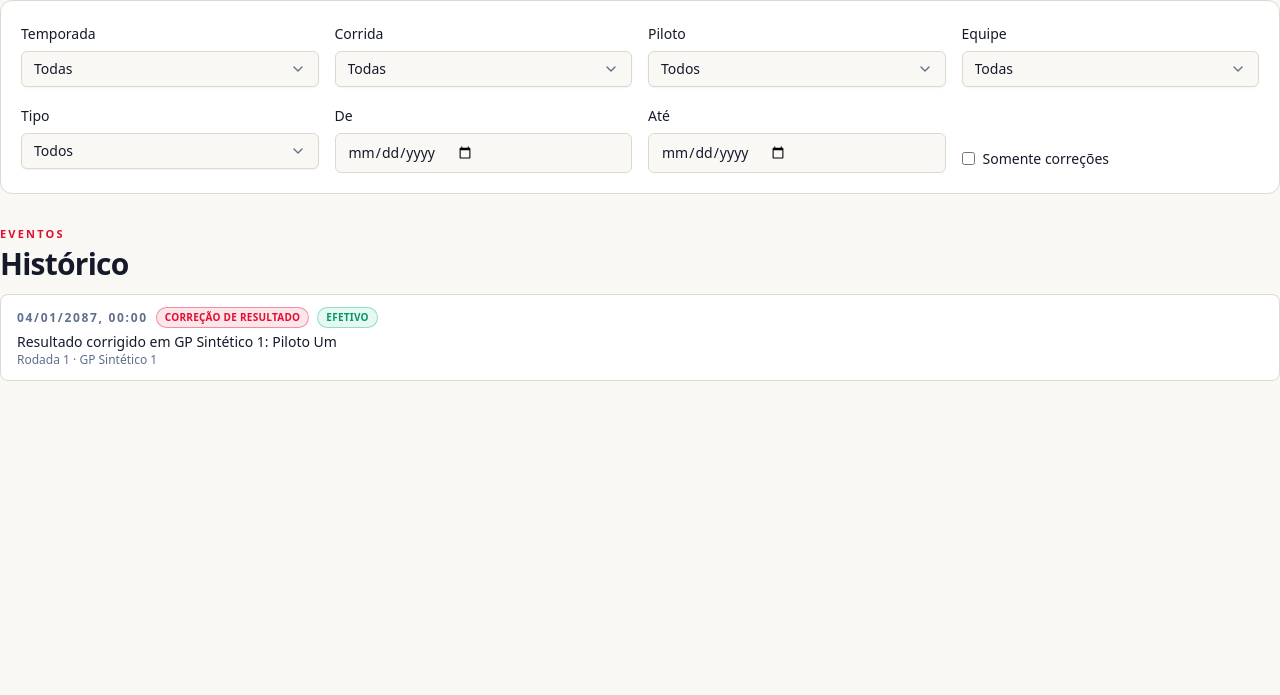
Scenario: TimelineEventPanel editor › 2) pré-visualiza com ANTES/DEPOIS e IMPACTOS, confirma e aplica
Click the button named "Resultado corrigido em GP Sintético 1: Piloto Um" at point(82, 317), box [0,294,1279,381]
(page scrolled)
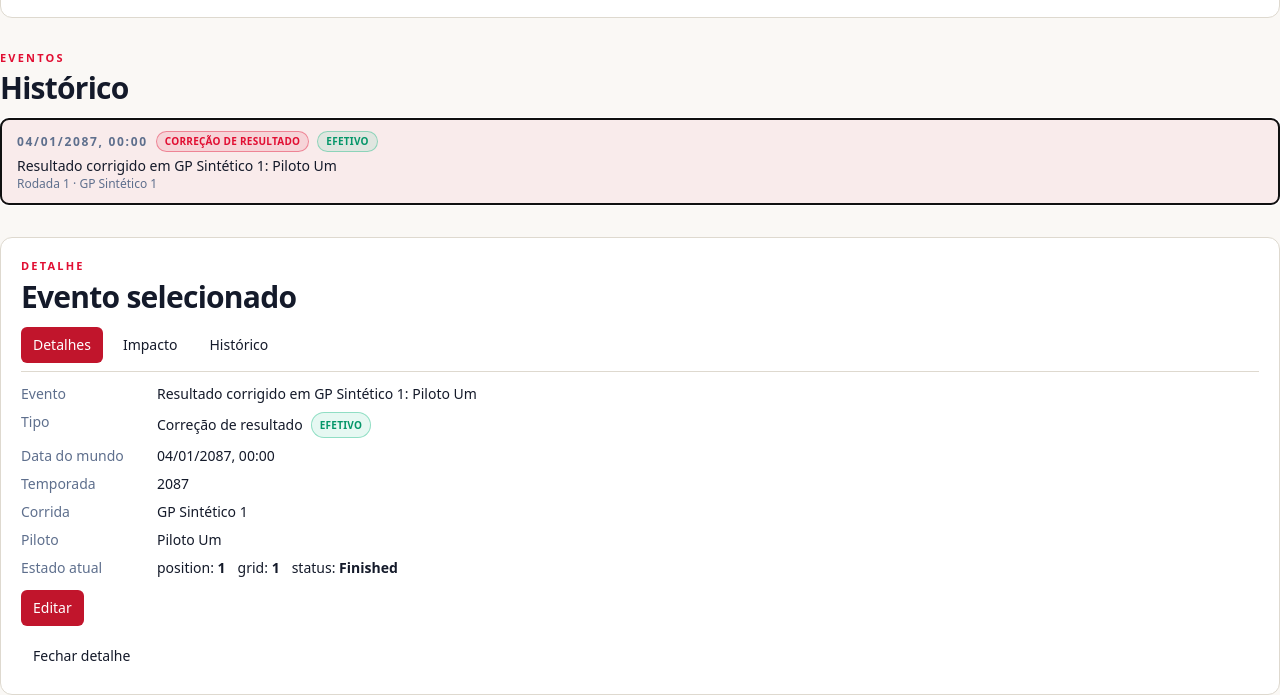
Click the button "Editar" at point(52, 608), box [21,590,84,626]
(page scrolled)
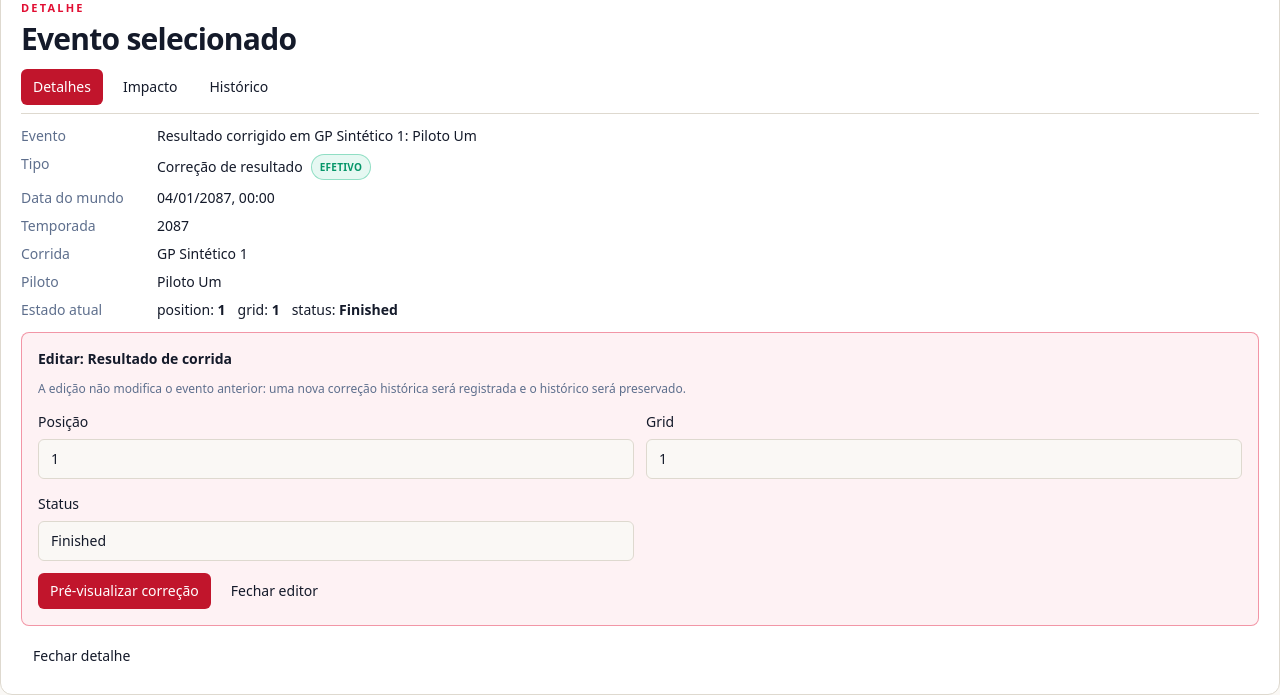
Replace the text in the number field labelled "Posição" with "2" at point(336, 458), box [38,438,634,478]
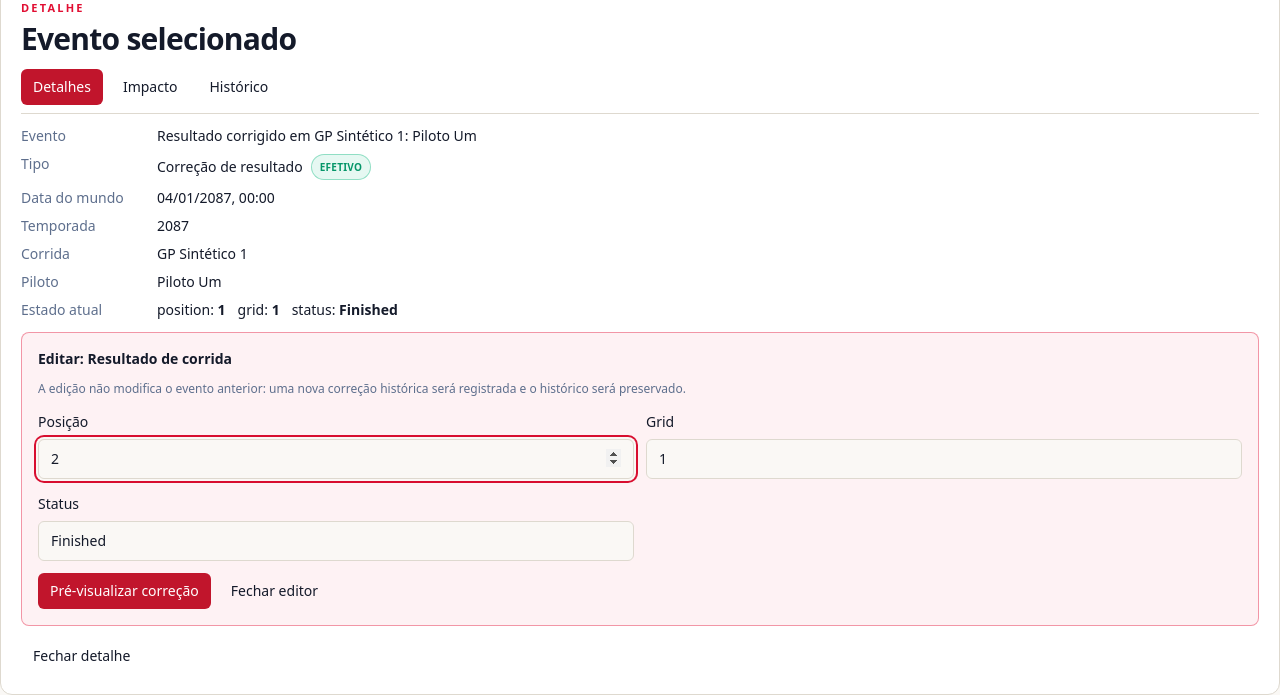
Click the button "Pré-visualizar correção" at point(124, 590), box [38,572,211,608]
(page scrolled)
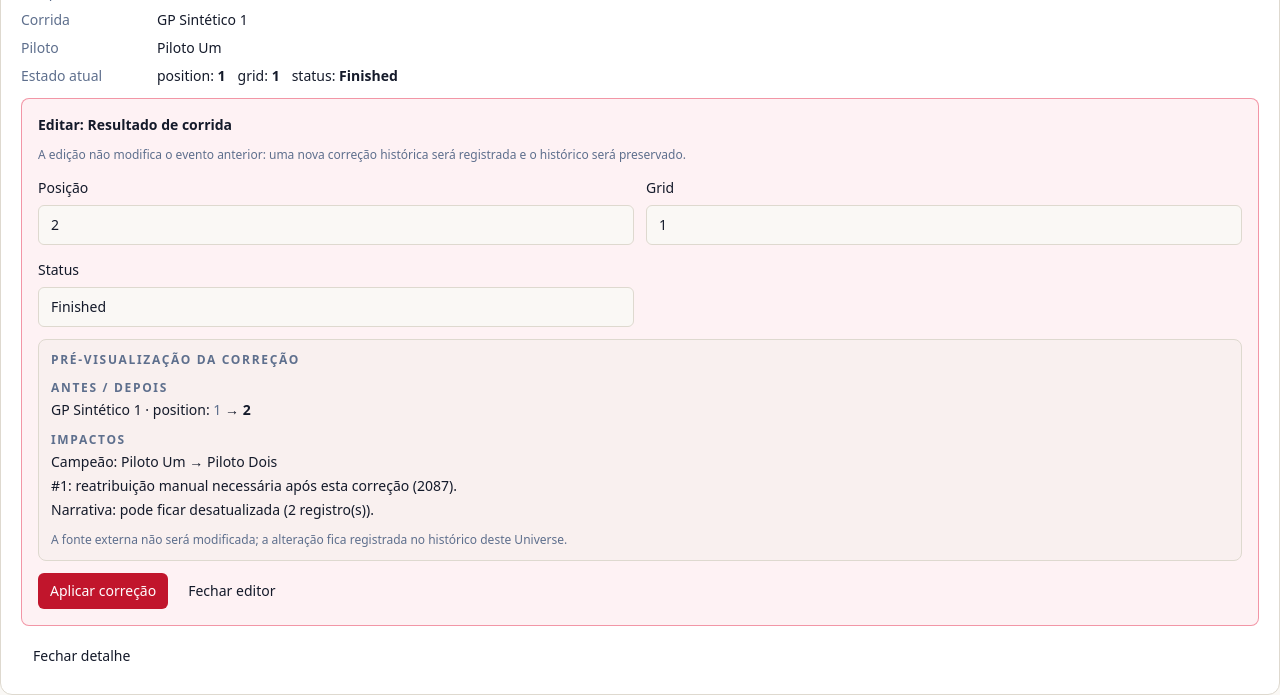
Expected: the text "Pré-visualização da correção" is shown, [51,350,300,368]
Expected: the text "Antes / Depois" is shown, [51,378,168,396]
Expected: the text "Campeão: Piloto Um → Piloto Dois" is shown, [51,452,277,470]
Click the button "Aplicar correção" at point(103, 590), box [38,572,168,608]
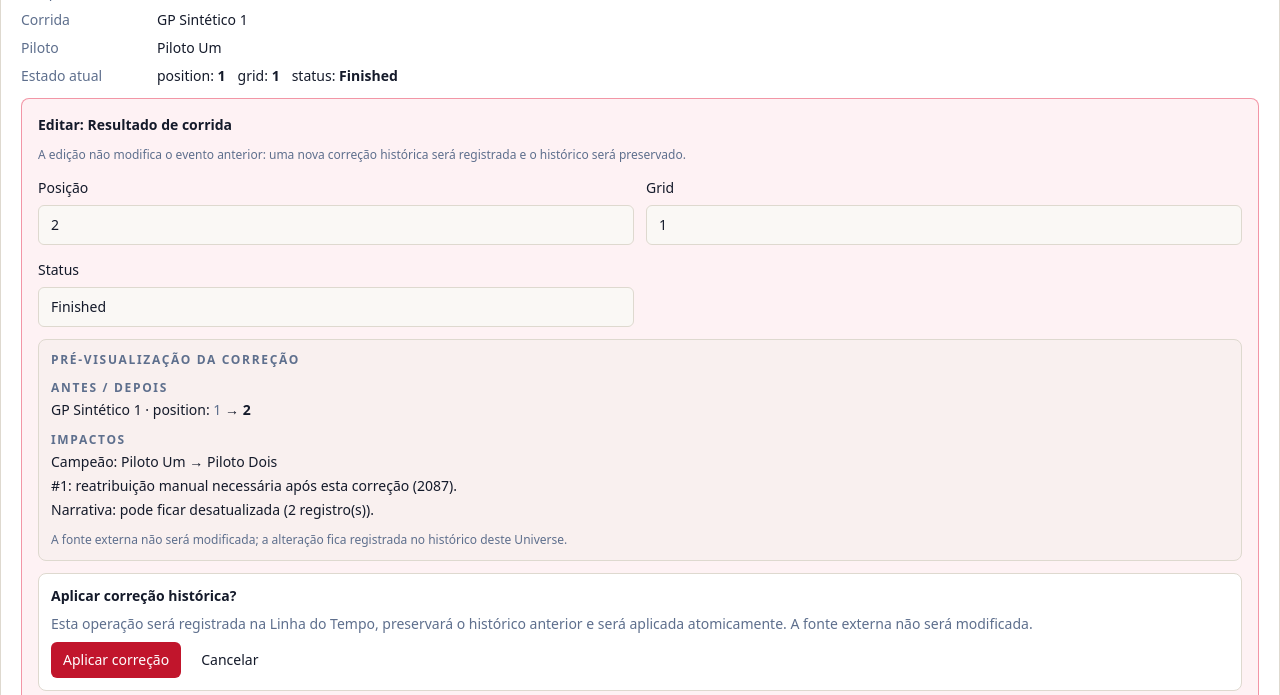
Expected: the text "Aplicar correção histórica?" is shown, [51,586,236,604]
Click the button "Aplicar correção" at point(116, 660), box [51,642,181,678]
(page scrolled)
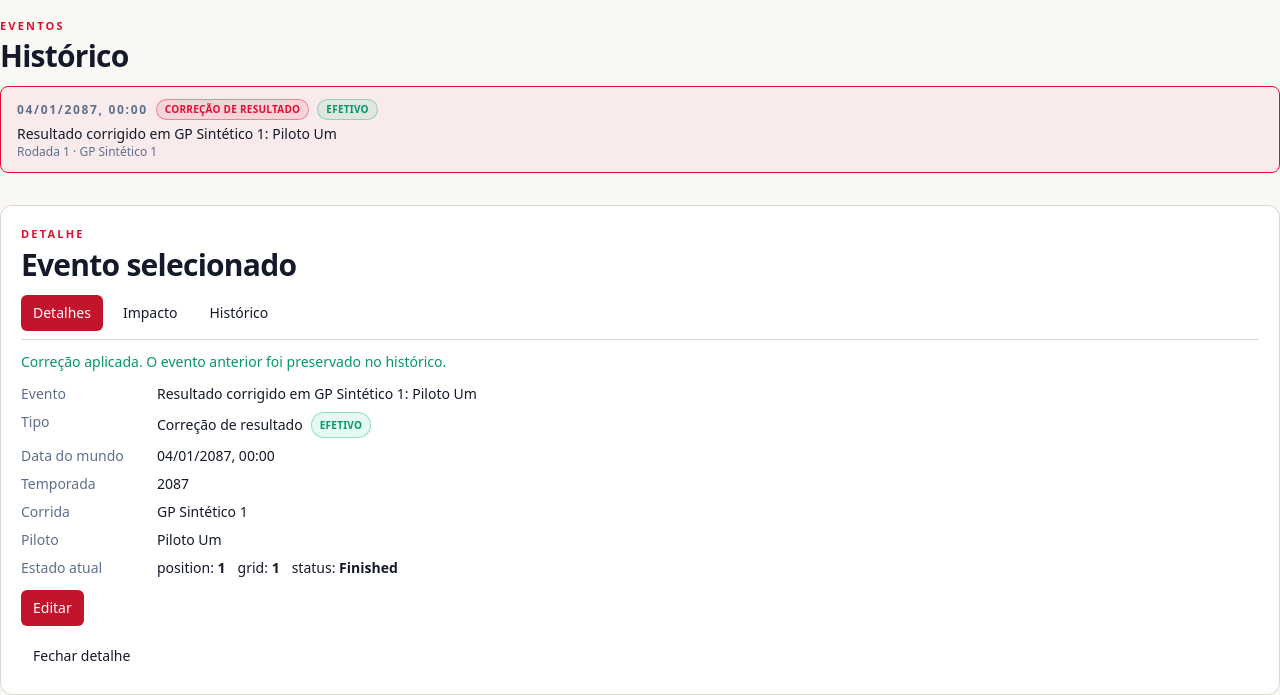
Expected: the text "Correção aplicada. O evento anterior foi preservado no histórico." is shown, [21,352,446,370]
